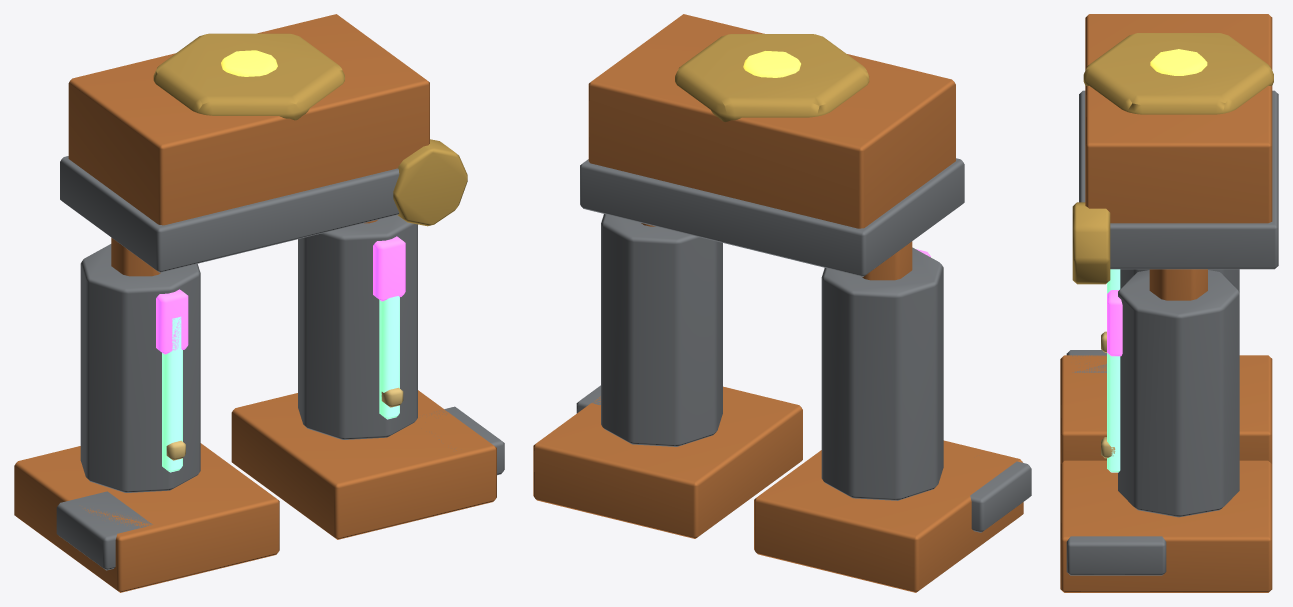
The model's file is cobble_sons_legs_bedrock.glb.
3 renders of one model, left to right at view 1: azimuth 30°, elevation 25°; view 2: azimuth 150°, elevation 25°; view 3: azimuth 270°, elevation 25°, orthographic. The views are drawn at different scales.
Parts seen in each view (by area): view 1: cobble_sons_legs_bedrock; view 2: cobble_sons_legs_bedrock; view 3: cobble_sons_legs_bedrock.
Part boxes in pixels (box(x1,y1,x2,y2)): cobble_sons_legs_bedrock: box(14, 14, 504, 592); cobble_sons_legs_bedrock: box(533, 14, 1031, 592); cobble_sons_legs_bedrock: box(1060, 14, 1278, 592).
Bounding box in the file's own units: 0.74 × 0.7825 × 0.35.
Materials: 1 (1 with a texture image).
